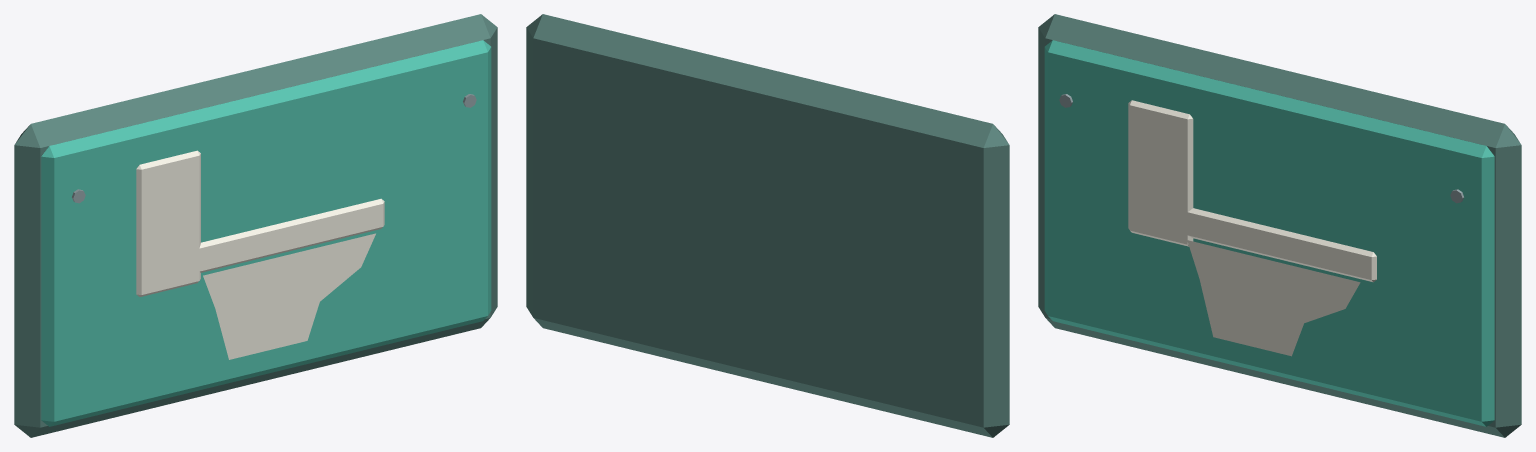
File: Fixtures-RestroomSign.fbx
3 renders of one model, left to right at view 1: azimuth 30°, elevation 25°; view 2: azimuth 150°, elevation 25°; view 3: azimuth 330°, elevation 25°, orthographic.
Parts seen in each view (by area): view 1: Face Plate, Sign Back, Pictogram Bowl, Pictogram Tank, Pictogram Seat; view 2: Sign Back; view 3: Face Plate, Sign Back, Pictogram Bowl, Pictogram Tank, Pictogram Seat.
Part boxes in pixels (<box>): Face Plate: <box>41,40,491,426</box>; Sign Back: <box>14,14,497,437</box>; Pictogram Bowl: <box>203,233,375,359</box>; Pictogram Tank: <box>136,150,200,296</box>; Pictogram Seat: <box>197,198,384,272</box>; Sign Back: <box>526,14,1009,437</box>; Face Plate: <box>1044,40,1494,426</box>; Sign Back: <box>1038,14,1521,437</box>; Pictogram Bowl: <box>1187,240,1360,356</box>; Pictogram Tank: <box>1128,100,1193,246</box>; Pictogram Seat: <box>1185,208,1376,282</box>.
Bounding box in the file's own units: 0.351 × 0.218 × 0.037.
